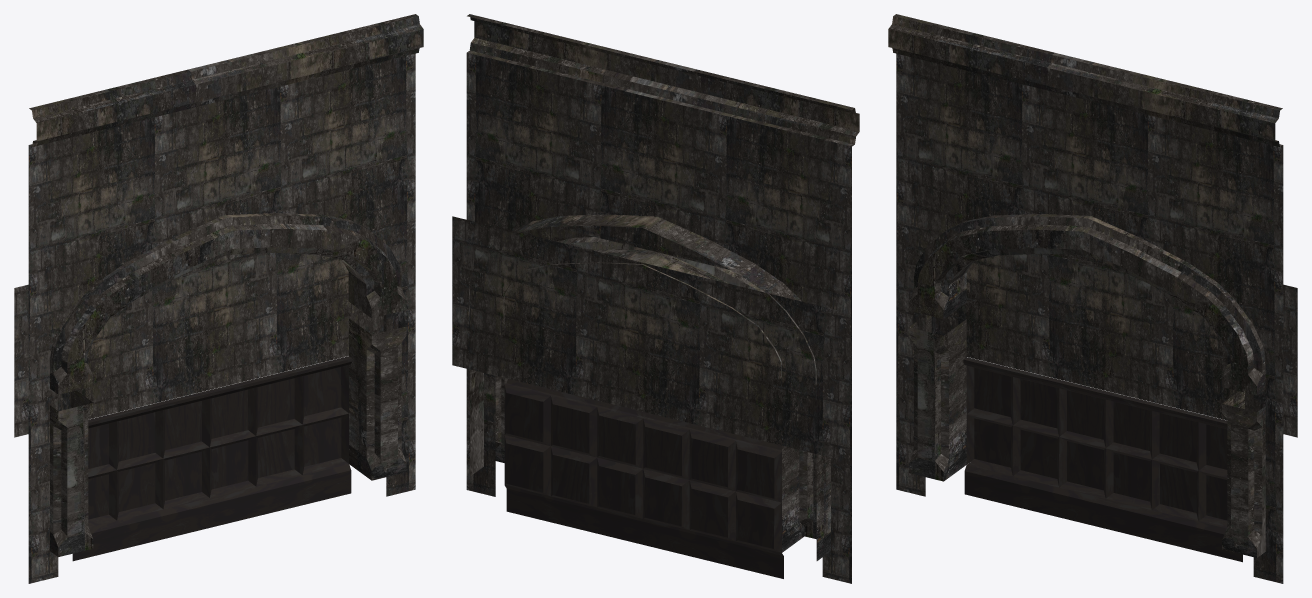
Rendered from plain_wall.fbx.
3 renders of one model, left to right at view 1: azimuth 30°, elevation 25°; view 2: azimuth 150°, elevation 25°; view 3: azimuth 330°, elevation 25°, orthographic.
Visible parts, largest first — view 1: [Imported] wall_plain; view 2: [Imported] wall_plain; view 3: [Imported] wall_plain.
Boxes of the visible parts, box(x1,y1,x2,y2) form: [Imported] wall_plain: box(14, 14, 423, 583); [Imported] wall_plain: box(452, 14, 859, 583); [Imported] wall_plain: box(888, 14, 1297, 583).
Bounding box in the file's own units: 1090 × 1280 × 126.
Materials: 2 (2 with a texture image).
